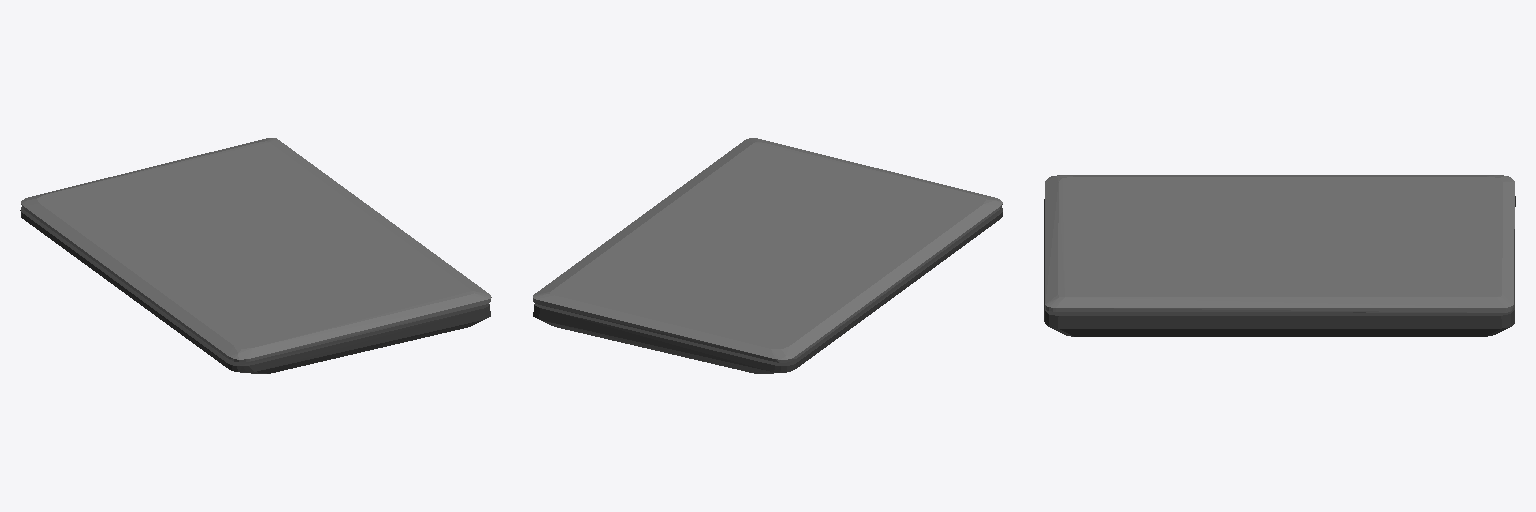
The robot description file, URDF, robot "laptop.urdf":
<?xml version="1.0" ?>

<robot name="laptop.urdf">
  <material name="Dark Grey">
    <color rgba=".3 .3 .3 1"/>
  </material>
  <material name="Light Grey">
    <color rgba=".5 .5 .5 1"/>
  </material>
  <link name="base_link">
    <inertial>
      <mass value="5"/>
      <inertia ixx="1" ixy="0" ixz="0" iyy="1" iyz="0" izz="1"/>
    </inertial>
    <visual>
      <origin xyz="0 0 0.35" rpy = "0 0 0"/>
      <geometry>
			  <mesh filename="body_visual.dae"/>
      </geometry>
      <material name="Dark Grey"/>
    </visual>
    <collision>
      <origin xyz="0 0 .35" rpy = "0 0 0"/>
      <geometry>
			  <mesh filename="body_visual.dae"/>
      </geometry>
    </collision>
  </link>
  <link name="screen_link">
    <inertial>
      <mass value="5"/>
      <inertia ixx="1" ixy="0" ixz="0" iyy="1" iyz="0" izz="1"/>
    </inertial>
    <visual>
      <origin xyz="-1.1 0 0" rpy="0 0 0"/>
      <geometry>
			  <mesh filename="screen_visual.dae"/>
      </geometry>
      <material name="Light Grey"/>
    </visual>
    <collision>
      <origin xyz="-1.1 0 0" rpy="0 0 0"/>
      <geometry>
			  <mesh filename="screen_visual.dae"/>
      </geometry>
    </collision>
  </link>
  <joint name="hinge" type="revolute">
      <parent link="base_link"/>
      <child link="screen_link"/>
      <origin xyz="1.1 0 .5" rpy="0 0 0"/>
      <axis xyz="0 1 0"/>
      <limit lower="-.2" upper="1.7" effort="100" velocity="100"/>
  </joint>
</robot>

--- Render facts (derived) ---
3 views of the same robot in one strip: view 1: azimuth 30°, elevation 25°; view 2: azimuth 150°, elevation 25°; view 3: azimuth 270°, elevation 25° (orthographic).
Model laptop.urdf with 2 links and 1 joints (1 revolute), rooted at base_link, posed every joint at zero.
Visible links, largest first — view 1: screen_link, base_link; view 2: screen_link, base_link; view 3: screen_link, base_link.
Link boxes in pixels (<box>): screen_link: <box>21,138,491,361</box>; base_link: <box>20,207,490,373</box>; screen_link: <box>533,138,1002,362</box>; base_link: <box>533,207,1002,373</box>; screen_link: <box>1045,175,1514,312</box>; base_link: <box>1044,196,1515,336</box>.
Size in the robot's own frame: 2.22 by 3.27 by 0.28 metres.
Meshes: 2 distinct files referenced, 2 mesh visuals loaded (2 Collada DAE).
